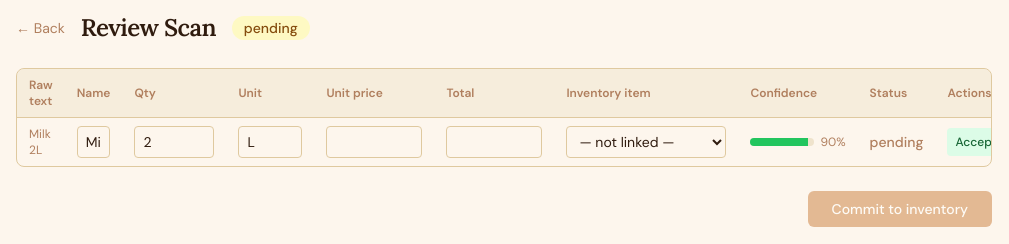
ReceiptReviewPage › editing total auto-fills unit price via quantity
Type "10" into the number field named "Total".
click(494, 142); type("10")  # box [446,126,542,158]
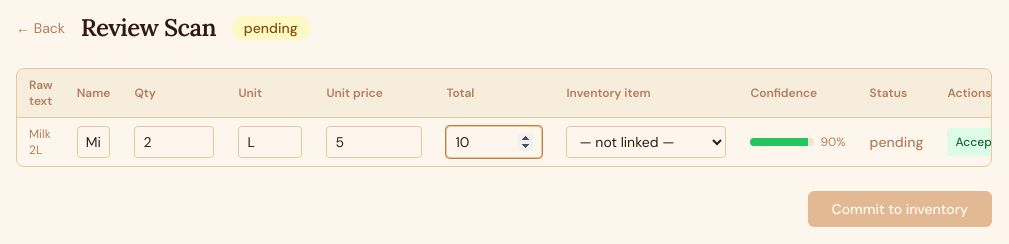
Now the number field named "Unit price" holds "5", box [326,126,422,158]
